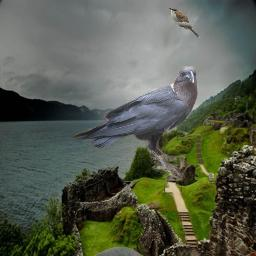Crow: (73, 66, 198, 178)
Cuckoo: (169, 8, 200, 38)
